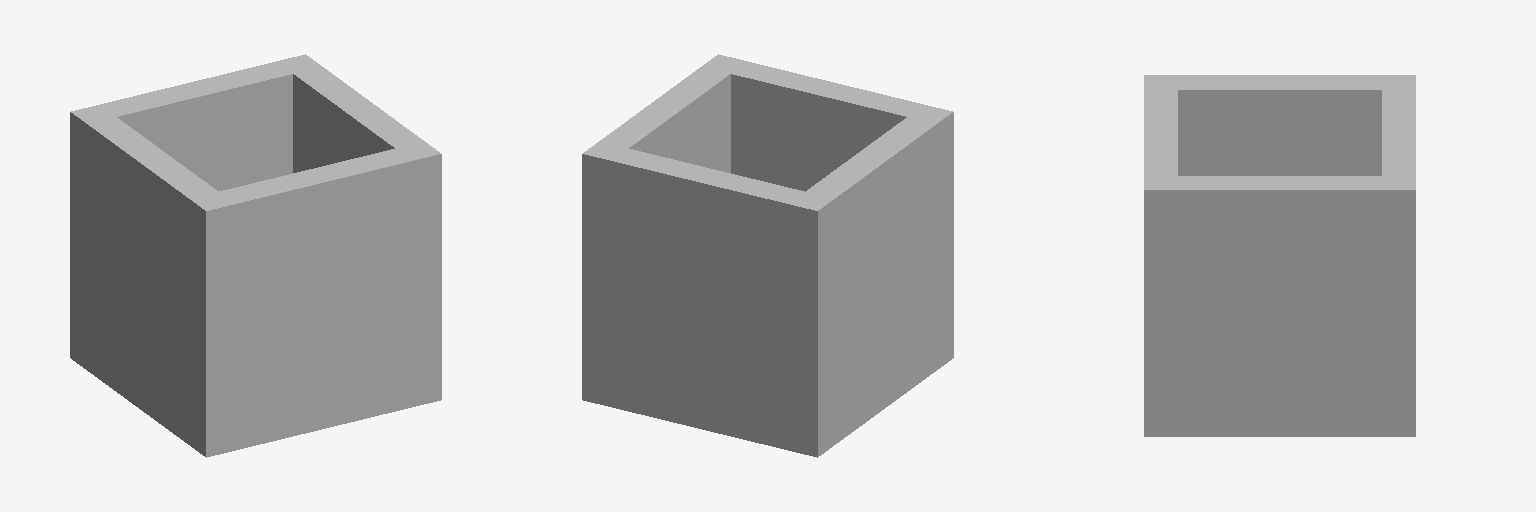
The model's file is foundry_basin.obj.
3 renders of one model, left to right at view 1: azimuth 30°, elevation 25°; view 2: azimuth 150°, elevation 25°; view 3: azimuth 270°, elevation 25°, orthographic.
Visible parts, largest first — view 1: left, back, right, bot, front; view 2: right, back, left, bot, front; view 3: front, back, left, right, bot.
Boxes of the visible parts, box(x1,y1,x2,y2) form: left: box(189, 141, 441, 426); back: box(87, 117, 217, 413); right: box(70, 54, 321, 338); bot: box(70, 328, 441, 457); front: box(293, 67, 423, 172); right: box(582, 141, 834, 426); back: box(806, 117, 936, 413); left: box(702, 54, 953, 338); bot: box(582, 328, 953, 457); front: box(600, 67, 730, 172); front: box(1178, 176, 1381, 405); back: box(1178, 75, 1381, 175); left: box(1144, 75, 1177, 405); right: box(1382, 75, 1415, 405); bot: box(1144, 406, 1415, 436).
Size of the model in its own units: 1 by 1 by 1.